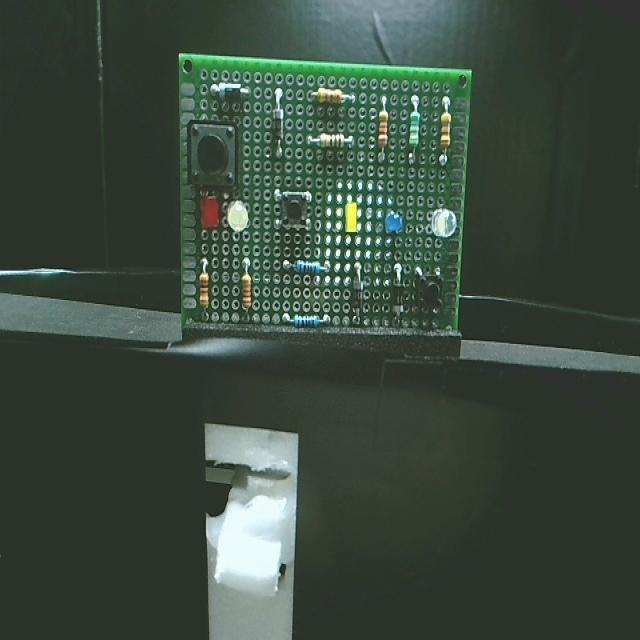diode: (212, 76, 250, 107), (386, 275, 408, 328), (268, 100, 287, 150), (350, 266, 364, 317)
led: (428, 202, 455, 248), (195, 194, 226, 232), (339, 194, 362, 244), (229, 196, 250, 234), (376, 203, 398, 238)
resistor: (278, 250, 328, 282), (313, 76, 353, 112), (312, 124, 352, 156), (288, 311, 328, 337), (434, 101, 454, 153), (376, 95, 392, 157), (196, 266, 218, 311), (407, 105, 422, 158), (239, 265, 255, 311)
switch: (184, 115, 245, 193), (409, 264, 447, 316), (276, 185, 312, 235)
